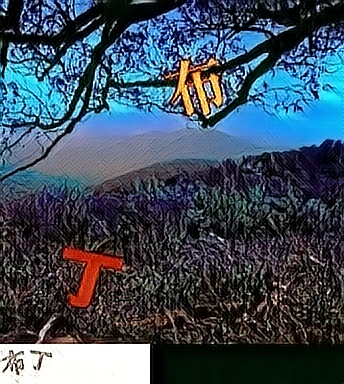B2BC: (162, 55, 222, 119)
B6A1: (60, 247, 120, 311)
